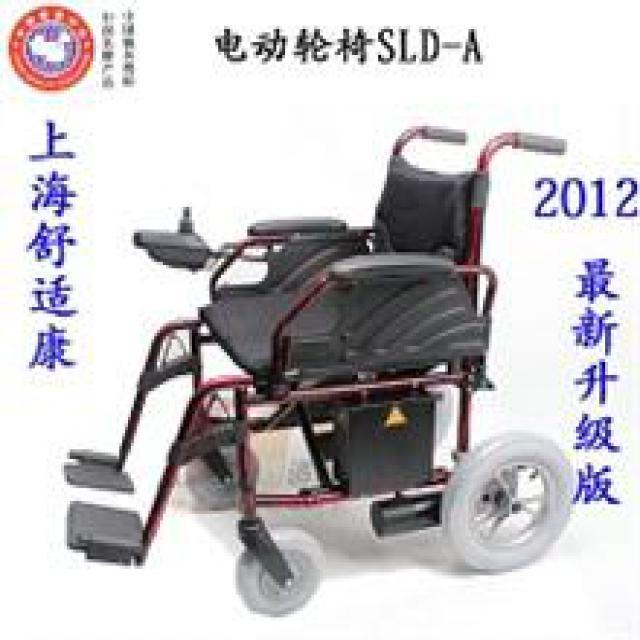wheelchair: (55, 110, 588, 604)
